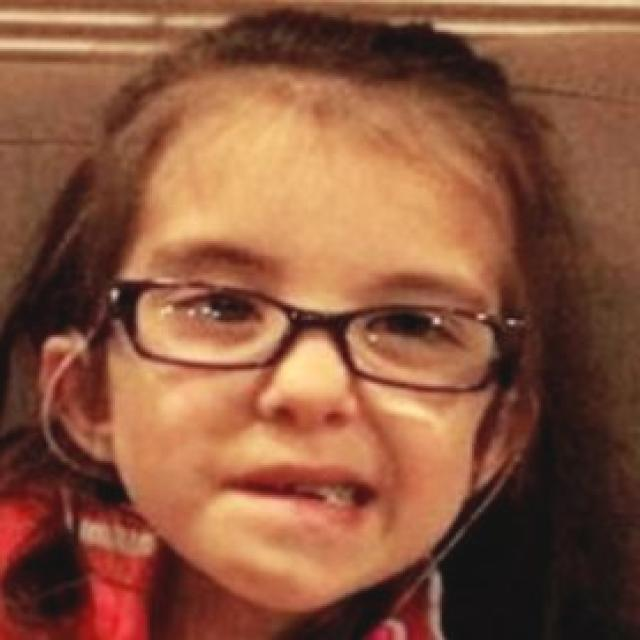stroke_face: (96, 111, 510, 621)
